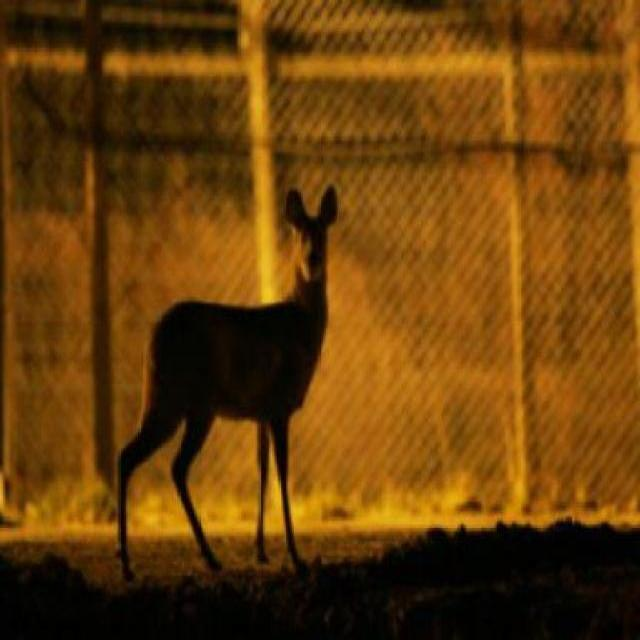deer: (96, 175, 342, 577)
